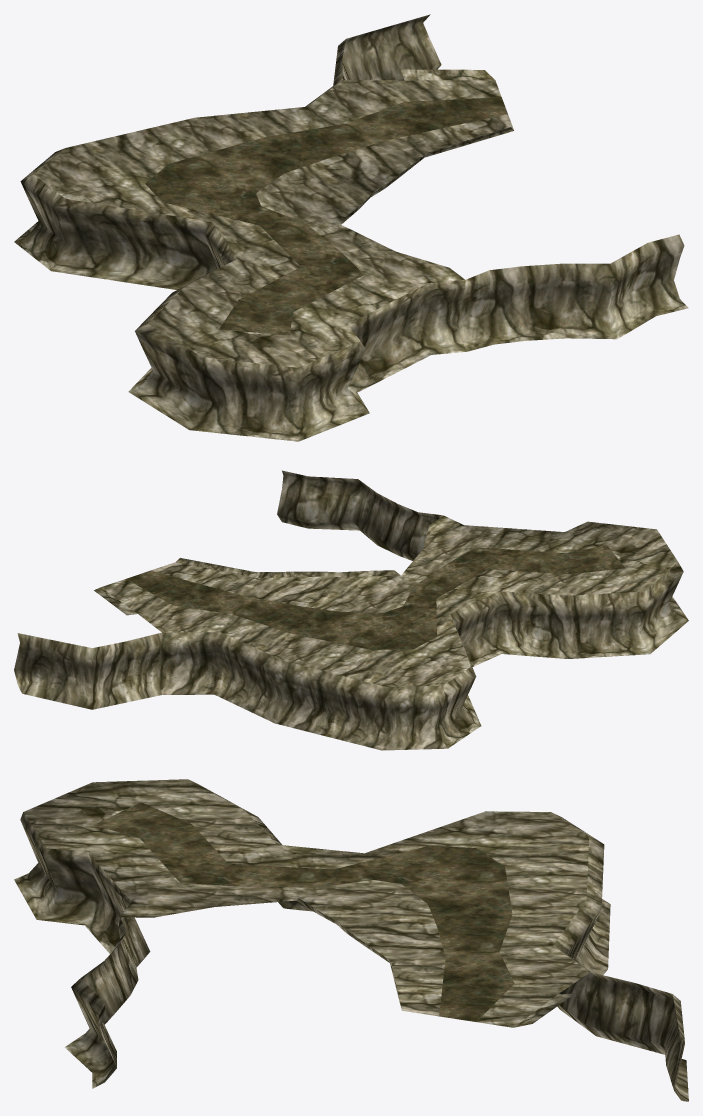
The model's file is CB_NEWPLAYSURFACE_CB_PLAYSURFACE145.fbx.
3 views of the same model, one above another, from view 1: azimuth 30°, elevation 25°; view 2: azimuth 150°, elevation 25°; view 3: azimuth 270°, elevation 25° (orthographic). The views are drawn at different scales.
Visible parts, largest first — view 1: CB_NEWPLAYSURFACE_CB_PLAYSURFACE145; view 2: CB_NEWPLAYSURFACE_CB_PLAYSURFACE145; view 3: CB_NEWPLAYSURFACE_CB_PLAYSURFACE145.
Part boxes in pixels (x1=…): CB_NEWPLAYSURFACE_CB_PLAYSURFACE145: x1=14, y1=14, x2=688, y2=441; CB_NEWPLAYSURFACE_CB_PLAYSURFACE145: x1=14, y1=470, x2=688, y2=750; CB_NEWPLAYSURFACE_CB_PLAYSURFACE145: x1=14, y1=779, x2=688, y2=1101.
Size of the model in its own units: 292728 by 37864 by 311393.
3 materials, 3 textured.
